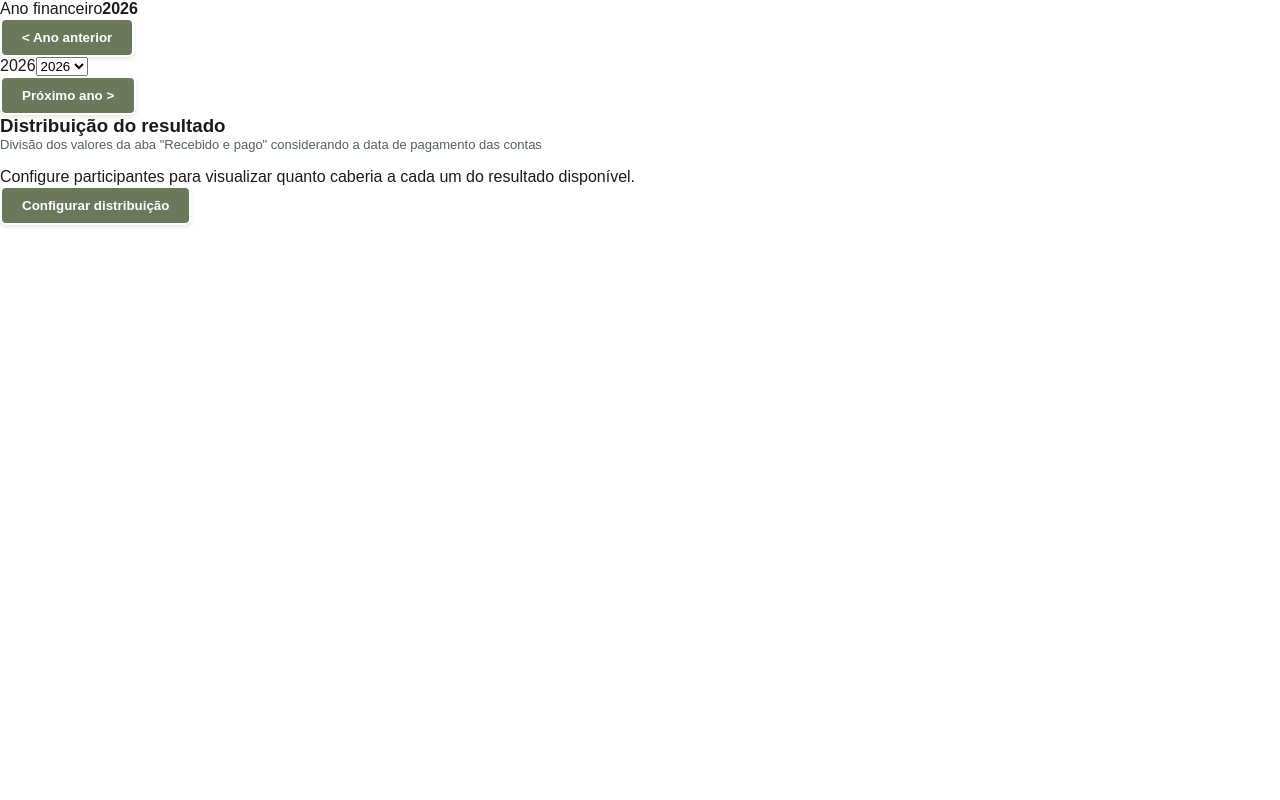
Test: sem configuração oferece ação simples, mantém visão e primeira regra não tem vigência
This screenshot has width=1280, height=800.
Click the button "Configurar distribuição" at coordinates (96, 206), box [0, 186, 191, 225]
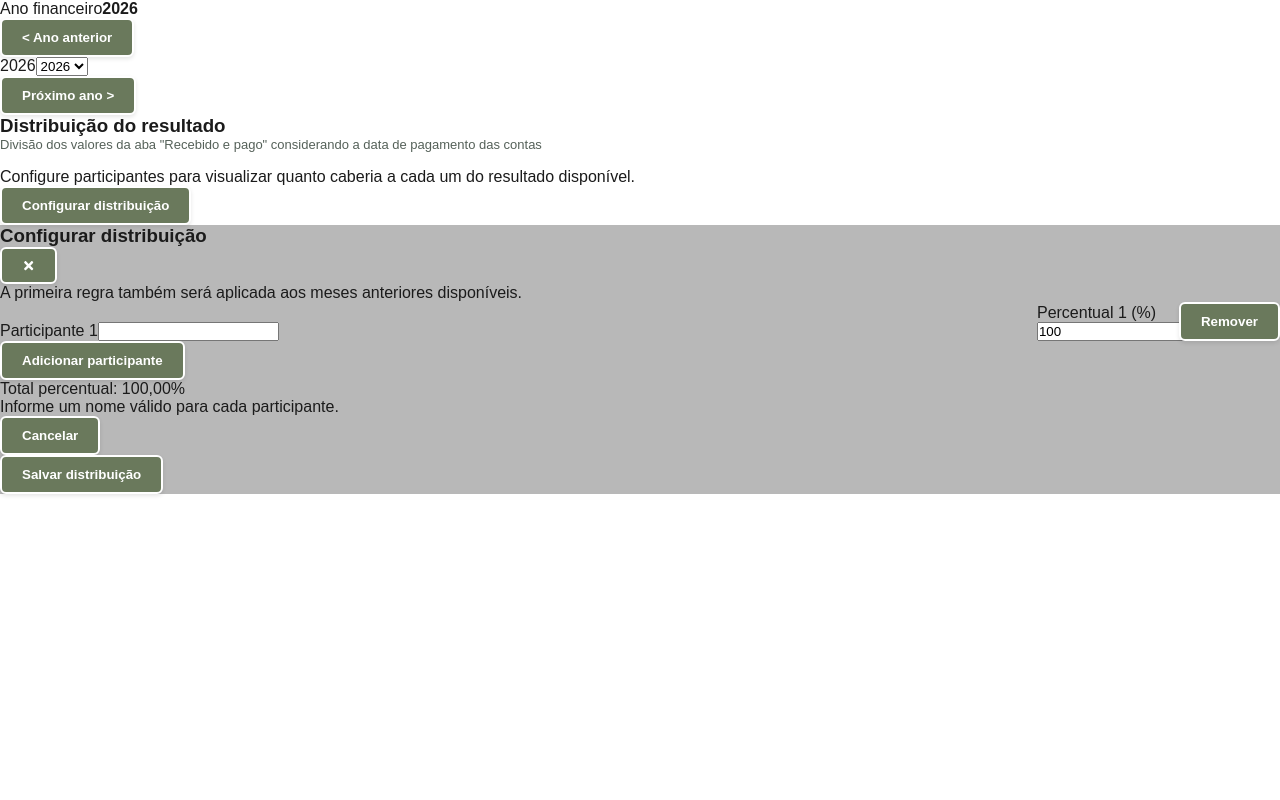
Result: the dialog "Configurar distribuição" shows "meses anteriores disponíveis" at [0, 284, 522, 301]
Type "Empresa" into the field labelled "Participante 1" at coordinates (188, 332), box [98, 322, 279, 341]
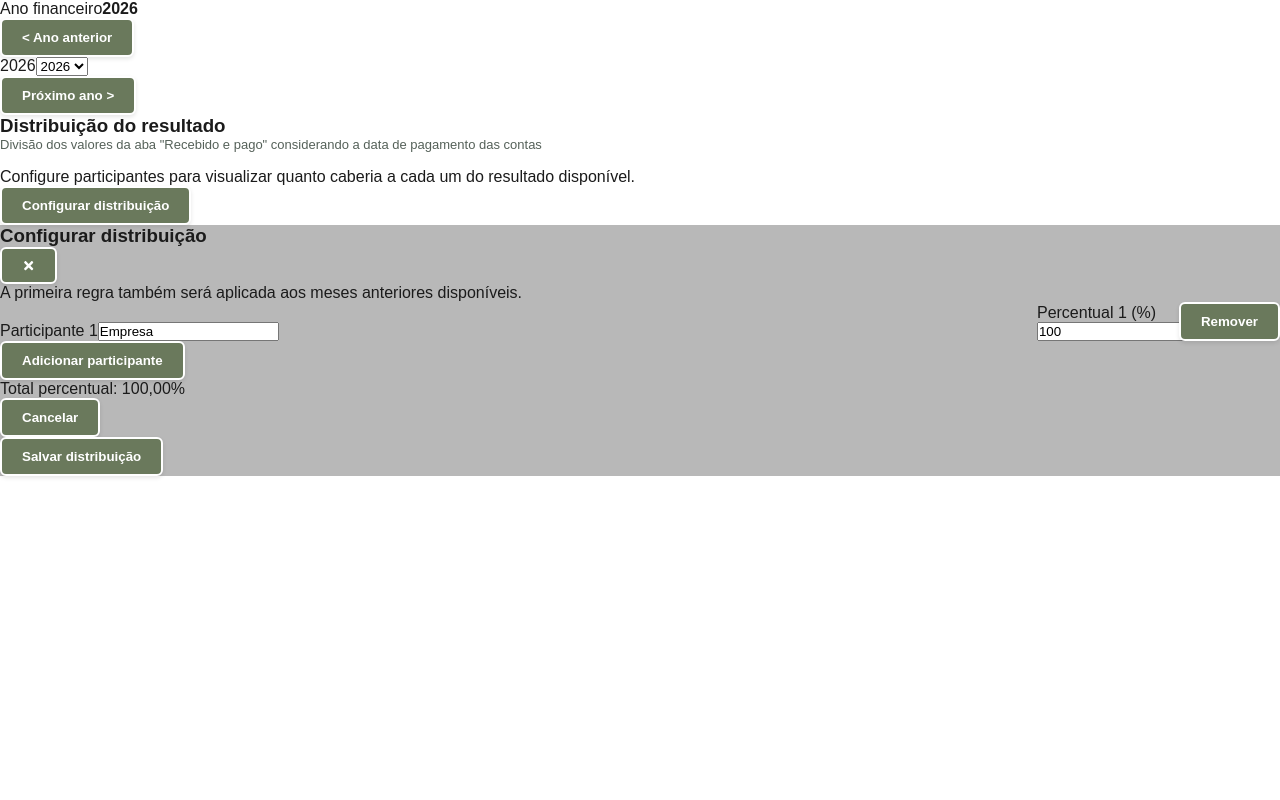
Click the button "Salvar distribuição" at coordinates (82, 457), box [0, 437, 163, 476]
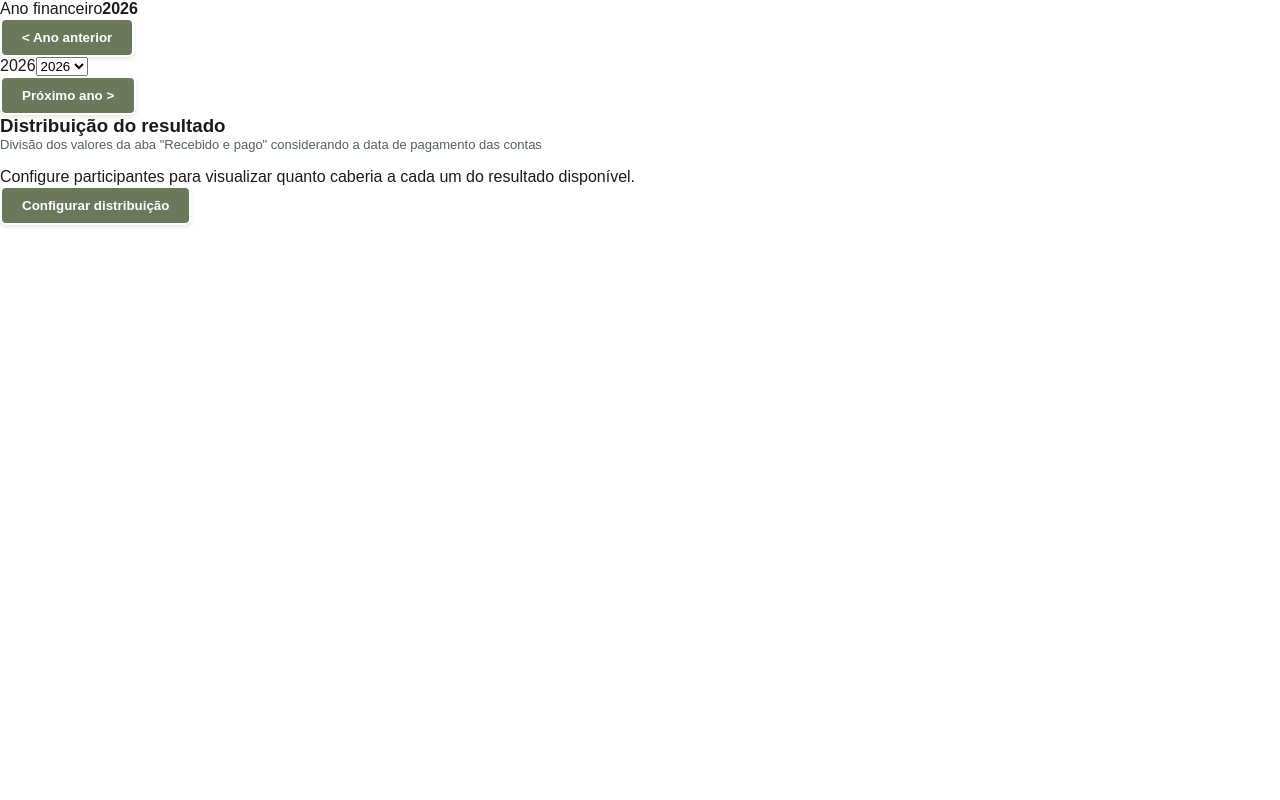
Result: the dialog is gone
